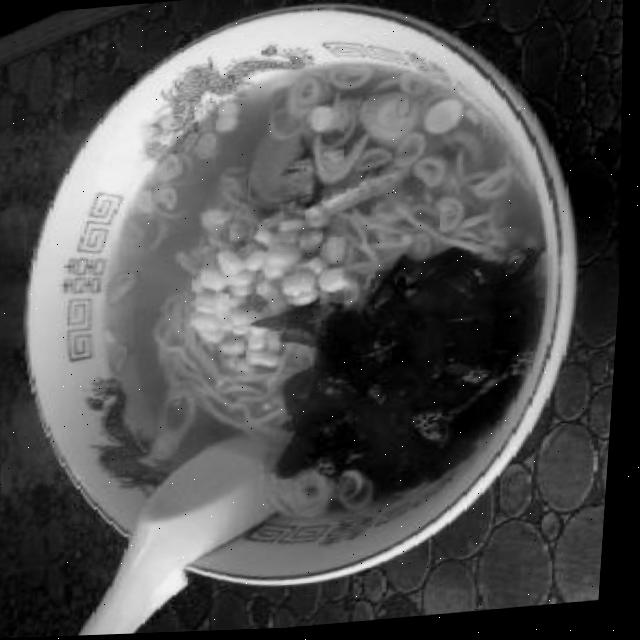面条主食: (0, 0, 618, 640)
